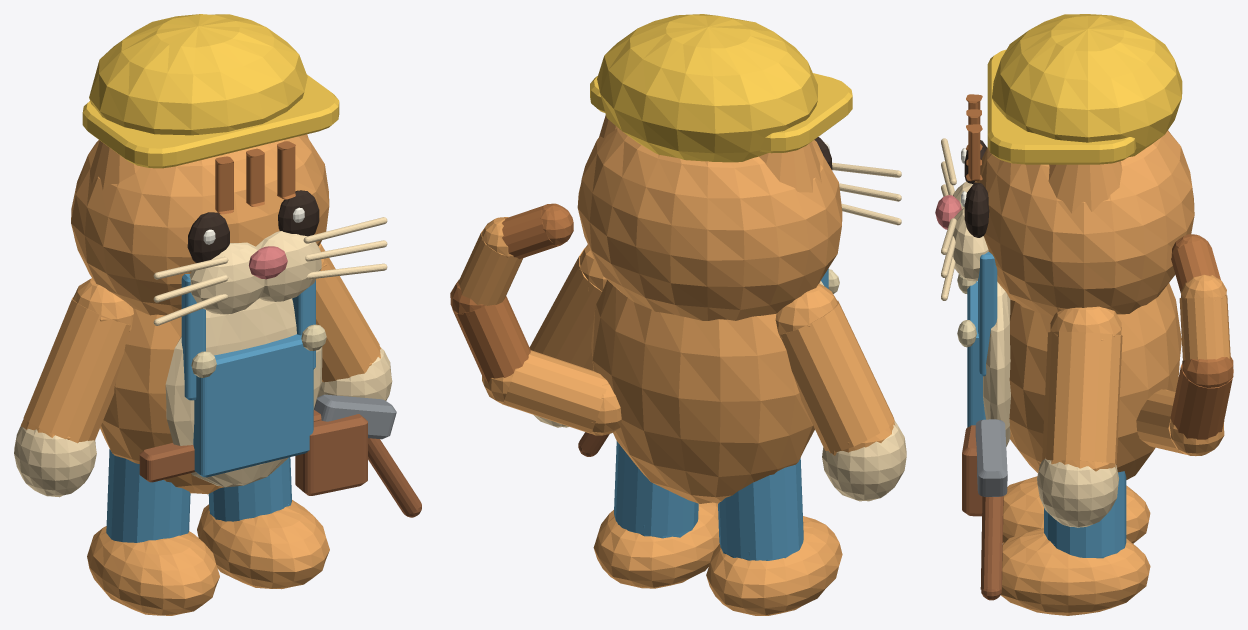
File: Yoisho_ClayCat.glb
3 views of the same model, side by side, from view 1: azimuth 30°, elevation 25°; view 2: azimuth 150°, elevation 25°; view 3: azimuth 270°, elevation 25° (orthographic). The views are drawn at different scales.
Parts seen in each view (by area): view 1: Head, Helmet_Dome, Overall_Bib, Arm_L_Tube, Foot_L, Body, Foot_R, Helmet_Brim, Belly, Leg_L_Tube, Tool_Pouch, Arm_R_Tube (+15 smaller); view 2: Head, Body, Helmet_Dome, Arm_L_Tube, Foot_L, Foot_R, Leg_L_Tube, Tail_0_Tube, Leg_R_Tube, Arm_R_Tube, Paw_L, Tail_1_Tube (+9 smaller); view 3: Head, Helmet_Dome, Body, Arm_R_Tube, Foot_R, Helmet_Brim, Paw_R, Leg_R_Tube, Foot_L, Tail_2_Tube, Belly, Tail_1_Tube (+17 smaller).
Boxes of the visible parts, x1,y1,x2,y2 form: Head: [71, 135, 329, 315]; Helmet_Dome: [89, 14, 307, 135]; Overall_Bib: [193, 334, 313, 477]; Arm_L_Tube: [23, 297, 130, 443]; Foot_L: [87, 526, 219, 615]; Body: [100, 308, 223, 494]; Foot_R: [197, 500, 329, 589]; Helmet_Brim: [82, 74, 339, 168]; Belly: [165, 298, 322, 487]; Leg_L_Tube: [106, 449, 190, 542]; Tool_Pouch: [295, 414, 367, 495]; Arm_R_Tube: [316, 248, 380, 382]; Head: [577, 127, 842, 320]; Body: [591, 280, 814, 503]; Helmet_Dome: [597, 14, 817, 162]; Arm_L_Tube: [780, 300, 894, 453]; Foot_L: [706, 516, 842, 615]; Foot_R: [593, 502, 719, 588]; Leg_L_Tube: [718, 458, 803, 560]; Tail_0_Tube: [502, 350, 608, 433]; Leg_R_Tube: [614, 441, 698, 535]; Arm_R_Tube: [529, 248, 601, 370]; Paw_L: [822, 420, 906, 501]; Tail_1_Tube: [452, 296, 530, 382]; Head: [974, 130, 1194, 316]; Helmet_Dome: [992, 14, 1182, 157]; Body: [1009, 283, 1181, 479]; Arm_R_Tube: [1042, 331, 1122, 463]; Foot_R: [1001, 528, 1150, 615]; Helmet_Brim: [987, 49, 1136, 164]; Paw_R: [1037, 458, 1118, 527]; Leg_R_Tube: [1044, 471, 1126, 557]; Foot_L: [1002, 476, 1150, 543]; Tail_2_Tube: [1179, 295, 1230, 360]; Belly: [983, 282, 1010, 446]; Tail_1_Tube: [1170, 363, 1233, 439].
Bounding box in the file's own units: 1.08 × 1.55 × 0.7595.
